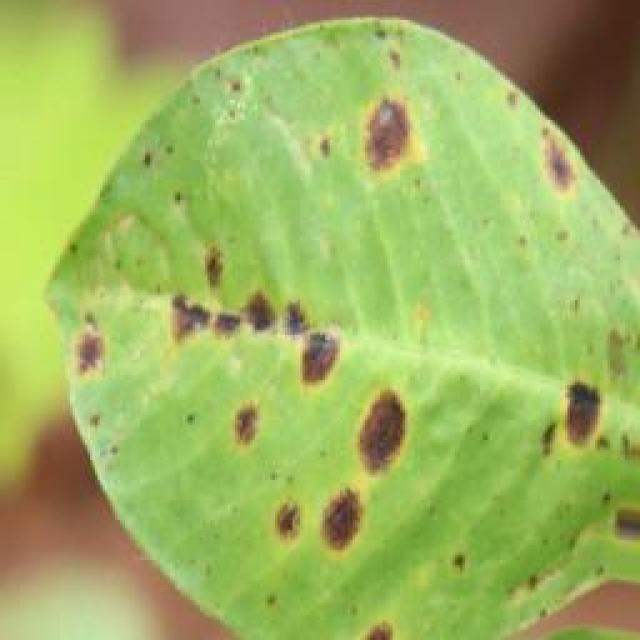Yellowish: (52, 50, 608, 640)
